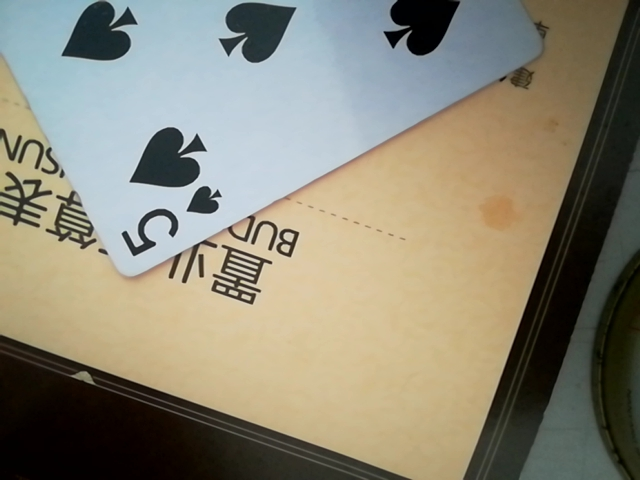ht 5: (7, 1, 568, 283)
